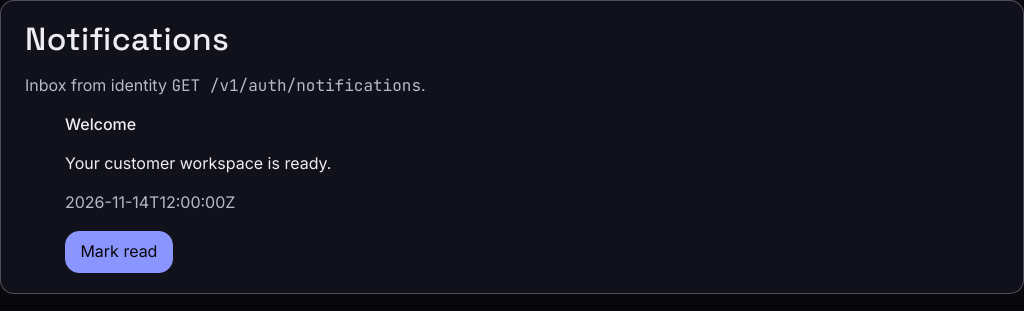
it: customer profile + notifications › mark notification read via action — no Not available yet
What coordinates should you click on to do the following:
click the button with test id "mark-read-ntf-1"
I would click on:
 (119, 252)
Its box is [65, 230, 173, 273].
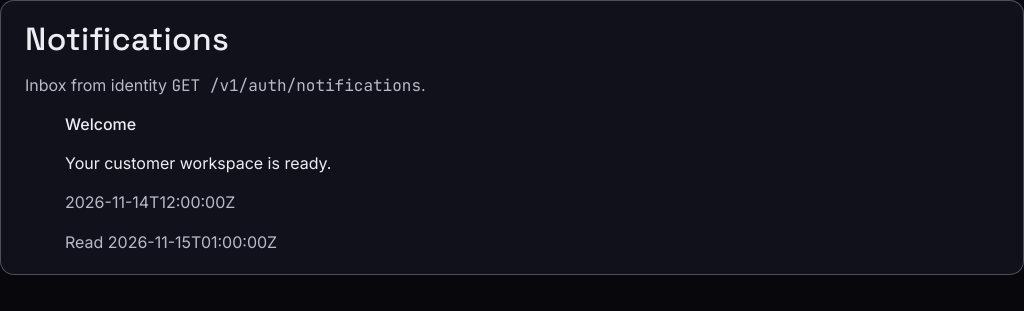
Expected: the text "Read 2026-11-15T01:00:00Z" is shown, [65, 232, 277, 252]
